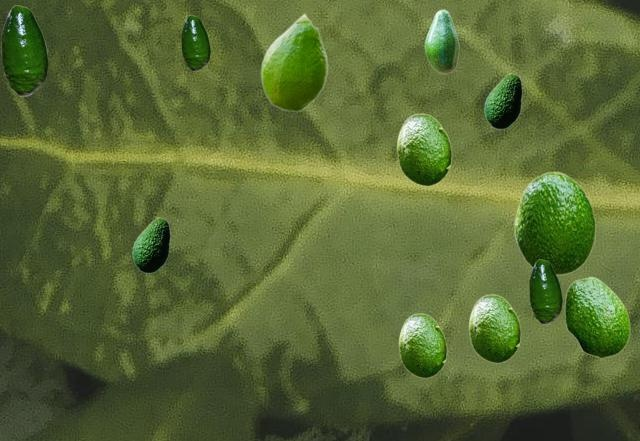avocado: (514, 171, 595, 274), (260, 12, 327, 111), (564, 276, 629, 357), (1, 5, 47, 95), (396, 113, 451, 185), (468, 294, 520, 362), (398, 313, 446, 377), (424, 9, 458, 73), (529, 259, 561, 323), (132, 217, 169, 272), (484, 73, 521, 128), (181, 15, 209, 70)
